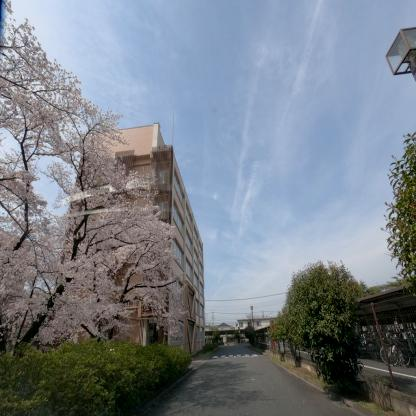Someiyoshino: (1, 1, 214, 357)
